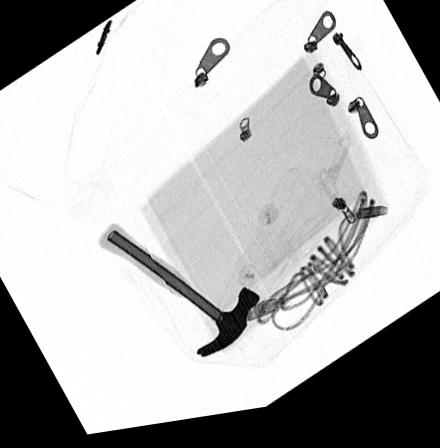Hammer: (97, 224, 259, 364)
